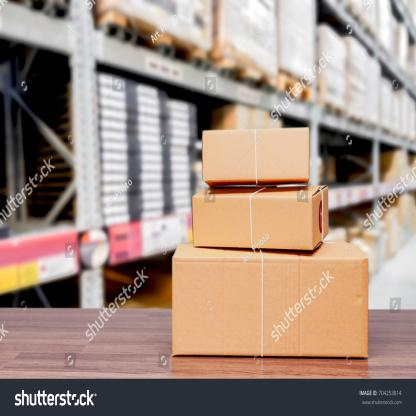box: (174, 256, 369, 357), (193, 193, 313, 251), (203, 128, 309, 184)
